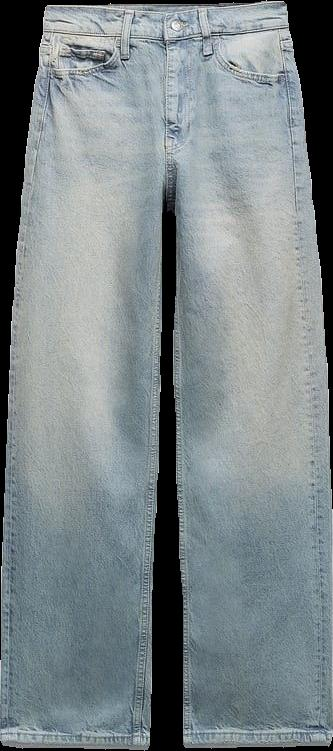Hemline: (0, 736, 150, 750), (182, 736, 331, 750)
Pantleg: (163, 1, 332, 747), (0, 4, 165, 750)
Waistline: (40, 21, 289, 43), (43, 0, 284, 15)
